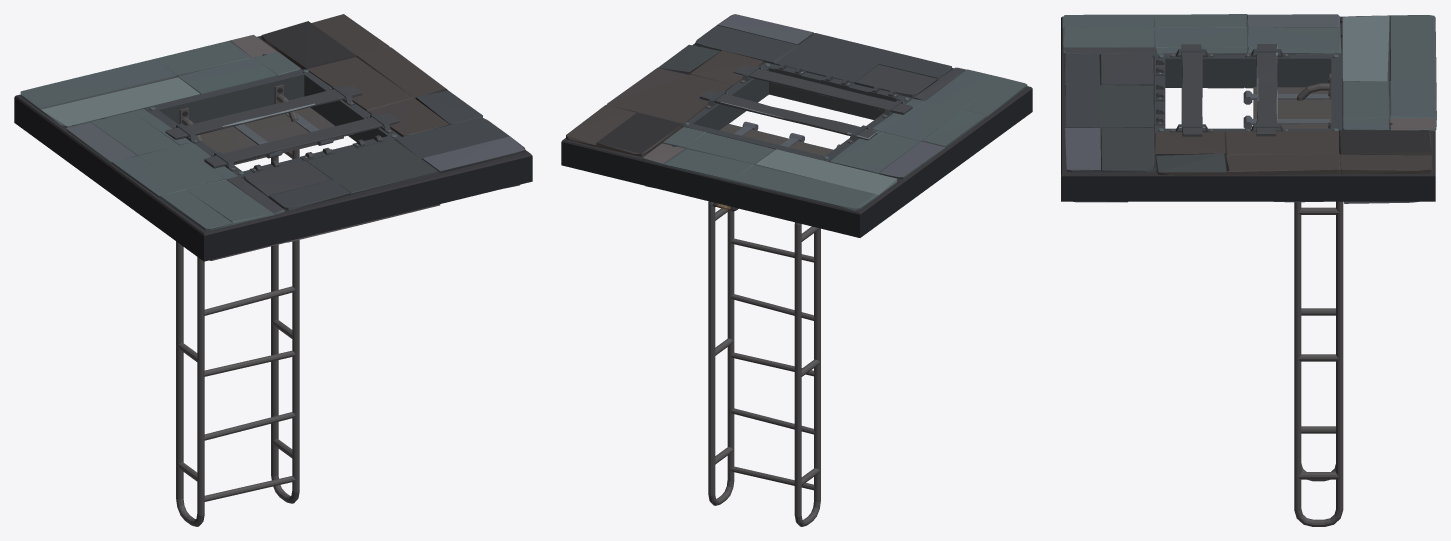
File: SM_Metall_Floor_Hatch_Lvl_1.glb
The picture shows the model from 3 angles, left to right: view 1: azimuth 30°, elevation 25°; view 2: azimuth 150°, elevation 25°; view 3: azimuth 270°, elevation 25°; orthographic projection. The views are drawn at different scales.
Parts seen in each view (by area): view 1: SM_Metall_Floor_Hatch_Lvl_3, SM_Metall_Floor_Hatch_Lvl_1, SM_Metal_Beam, SM_Hatch_Lvl_1, SM_Metall_Floor_Hatch_Lvl_2; view 2: SM_Metall_Floor_Hatch_Lvl_3, SM_Metall_Floor_Hatch_Lvl_1, SM_Metal_Beam, SM_Hatch_Lvl_1, SM_Metall_Floor_Hatch_Lvl_2; view 3: SM_Metall_Floor_Hatch_Lvl_3, SM_Metall_Floor_Hatch_Lvl_1, SM_Metal_Beam, SM_Hatch_Lvl_1, SM_Metall_Floor_Hatch_Lvl_2.
Part boxes in pixels (x1,y1,x2,y2): SM_Metall_Floor_Hatch_Lvl_3: [20, 14, 525, 260]; SM_Metall_Floor_Hatch_Lvl_1: [14, 35, 532, 526]; SM_Metal_Beam: [165, 85, 399, 168]; SM_Hatch_Lvl_1: [200, 107, 343, 164]; SM_Metall_Floor_Hatch_Lvl_2: [66, 54, 479, 192]; SM_Metall_Floor_Hatch_Lvl_3: [566, 14, 1027, 210]; SM_Metall_Floor_Hatch_Lvl_1: [561, 43, 1032, 526]; SM_Metal_Beam: [699, 65, 912, 140]; SM_Hatch_Lvl_1: [710, 121, 839, 211]; SM_Metall_Floor_Hatch_Lvl_2: [671, 45, 899, 177]; SM_Metall_Floor_Hatch_Lvl_3: [1062, 14, 1436, 203]; SM_Metall_Floor_Hatch_Lvl_1: [1061, 16, 1435, 526]; SM_Metal_Beam: [1181, 44, 1277, 136]; SM_Hatch_Lvl_1: [1243, 87, 1331, 128]; SM_Metall_Floor_Hatch_Lvl_2: [1153, 20, 1392, 170].
Bounding box in the file's own units: 2 × 2.45 × 2.01.
Materials: 1 (1 with a texture image).
